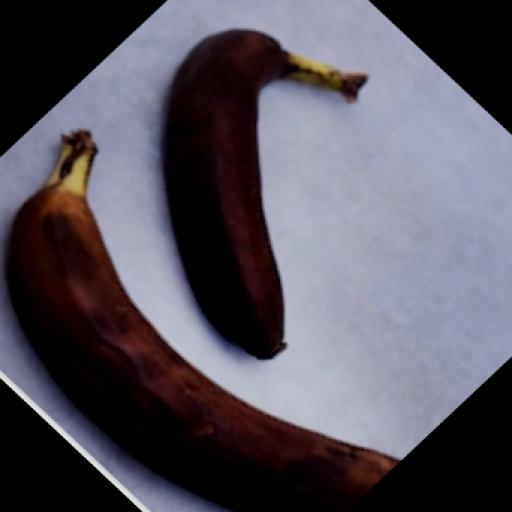banana-overripe: (119, 38, 383, 376)
